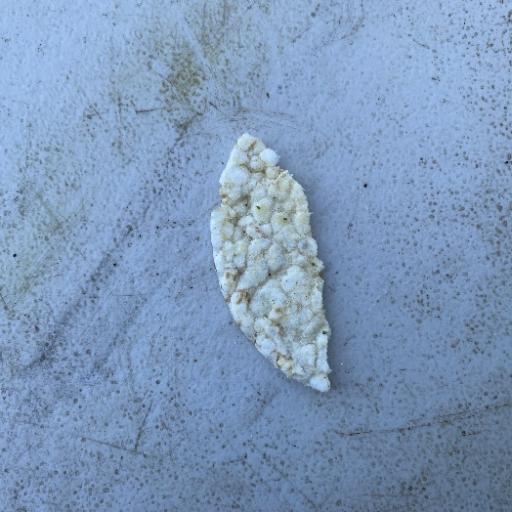Waste: (208, 132, 333, 394)
